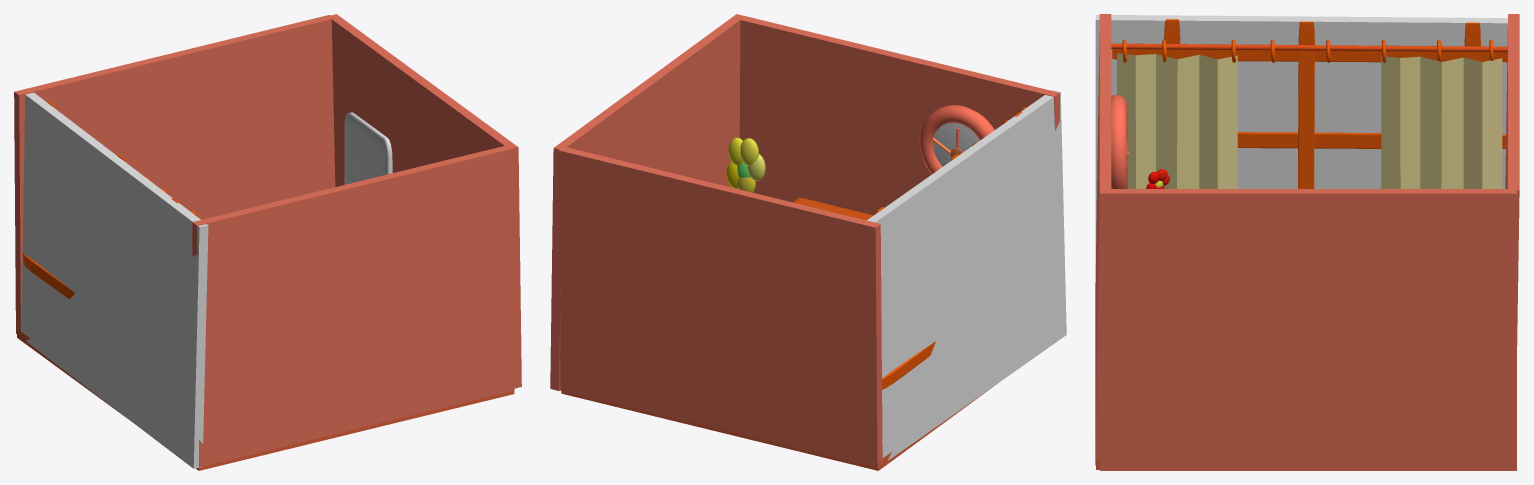
Rendered from bedroom.fbx.
The picture shows the model from 3 angles, left to right: view 1: azimuth 30°, elevation 25°; view 2: azimuth 150°, elevation 25°; view 3: azimuth 270°, elevation 25°; orthographic projection. The views are drawn at different scales.
Visible parts, largest first — view 1: Cube.001, Cube.002, Cube.007, Cube.008, Roundcube.039, Cube, Roundcube.025; view 2: Cube.007, Cube.002, Cube.001, Cube.008, TwistedTorus.001, Cube, Sphere, Roundcube.025, Roundcube.002; view 3: Cube.008, Cube.002, Plane, Plane.001, Cube.001, Roundcube.027, Roundcube.029, Cube.007, Cylinder.006, Roundcube.026, TwistedTorus.001, Roundcube.030.
Boxes of the visible parts, box(x1,y1,x2,y2) form: Cube.001: box(192, 146, 514, 467); Cube.002: box(21, 92, 208, 468); Cube.007: box(14, 15, 335, 333); Cube.008: box(330, 14, 521, 388); Roundcube.039: box(344, 112, 392, 184); Cube: box(17, 329, 514, 470); Roundcube.025: box(23, 253, 74, 299); Cube.007: box(558, 146, 882, 467); Cube.002: box(867, 90, 1066, 460); Cube.001: box(739, 15, 1059, 215); Cube.008: box(550, 14, 742, 390); TwistedTorus.001: box(919, 105, 994, 173); Cube: box(561, 384, 996, 470); Sphere: box(933, 122, 979, 166); Roundcube.025: box(882, 341, 935, 389); Roundcube.002: box(792, 197, 873, 220); Cube.008: box(1100, 189, 1516, 470); Cube.002: box(1095, 15, 1507, 263); Plane: box(1381, 56, 1502, 188); Plane.001: box(1117, 53, 1237, 188); Cube.001: box(1095, 14, 1111, 465); Roundcube.027: box(1112, 49, 1507, 62); Roundcube.029: box(1298, 21, 1314, 188); Cube.007: box(1505, 14, 1519, 345); Cylinder.006: box(1111, 43, 1507, 52); Roundcube.026: box(1237, 132, 1506, 148); TwistedTorus.001: box(1111, 94, 1127, 188); Roundcube.030: box(1464, 22, 1480, 61).
Bounding box in the file's own units: 876 × 619 × 851.
